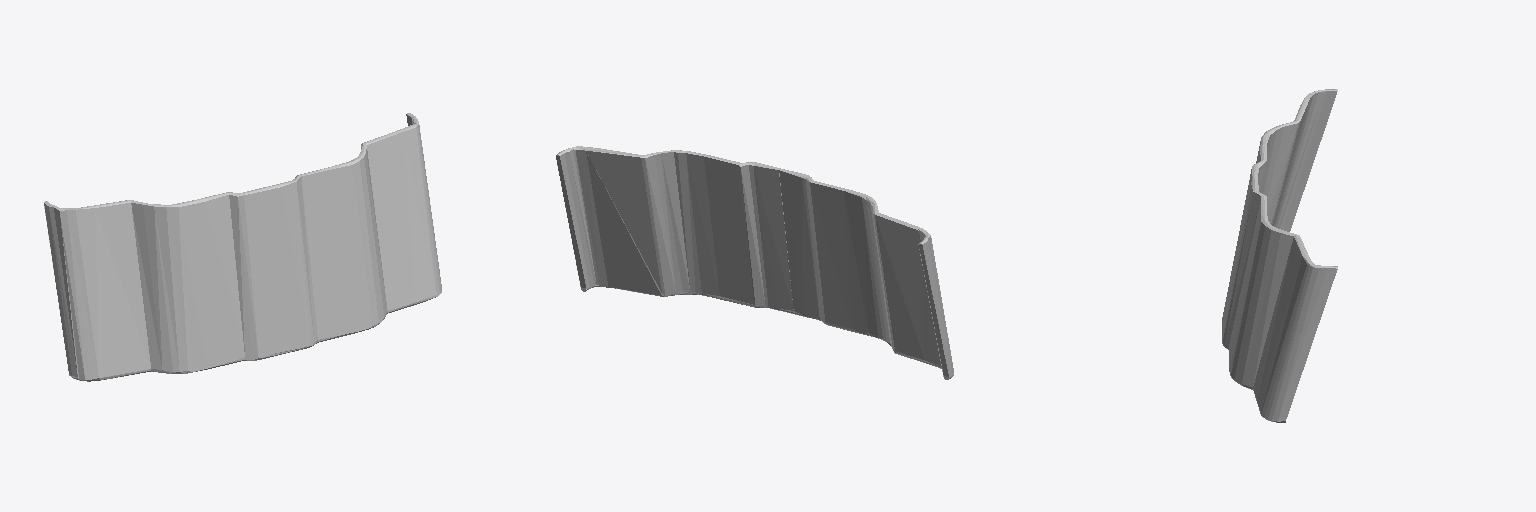
The model's file is planeDashCover.obj.
3 renders of one model, left to right at view 1: azimuth 30°, elevation 25°; view 2: azimuth 150°, elevation 25°; view 3: azimuth 270°, elevation 25°, orthographic.
Visible parts, largest first — view 1: BezierCurve.005_BezierCurve.002; view 2: BezierCurve.005_BezierCurve.002; view 3: BezierCurve.005_BezierCurve.002.
Boxes of the visible parts, <box> form: BezierCurve.005_BezierCurve.002: <box>44,113,441,381</box>; BezierCurve.005_BezierCurve.002: <box>556,146,953,379</box>; BezierCurve.005_BezierCurve.002: <box>1222,89,1337,422</box>.
Size of the model in its own units: 242 by 97.6 by 65.63.